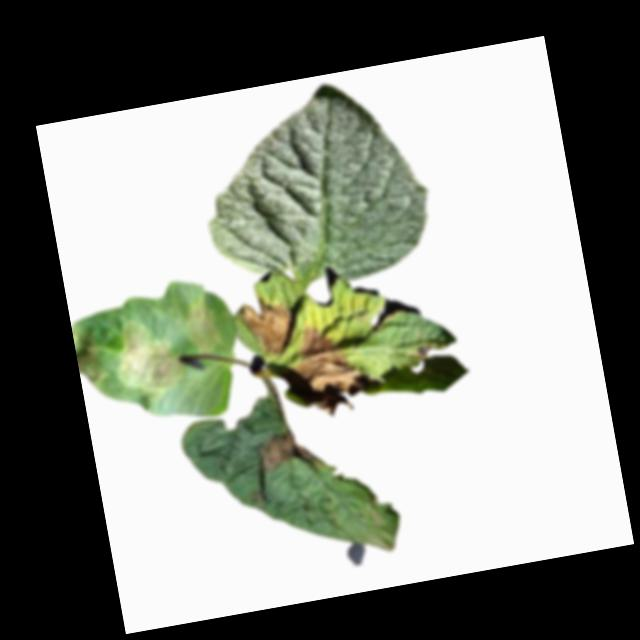Late_blight: (287, 314, 381, 419), (107, 314, 189, 401), (238, 290, 300, 363), (252, 425, 325, 477), (178, 297, 225, 359), (73, 330, 111, 388), (412, 343, 436, 363)
healthy: (188, 69, 437, 302)
